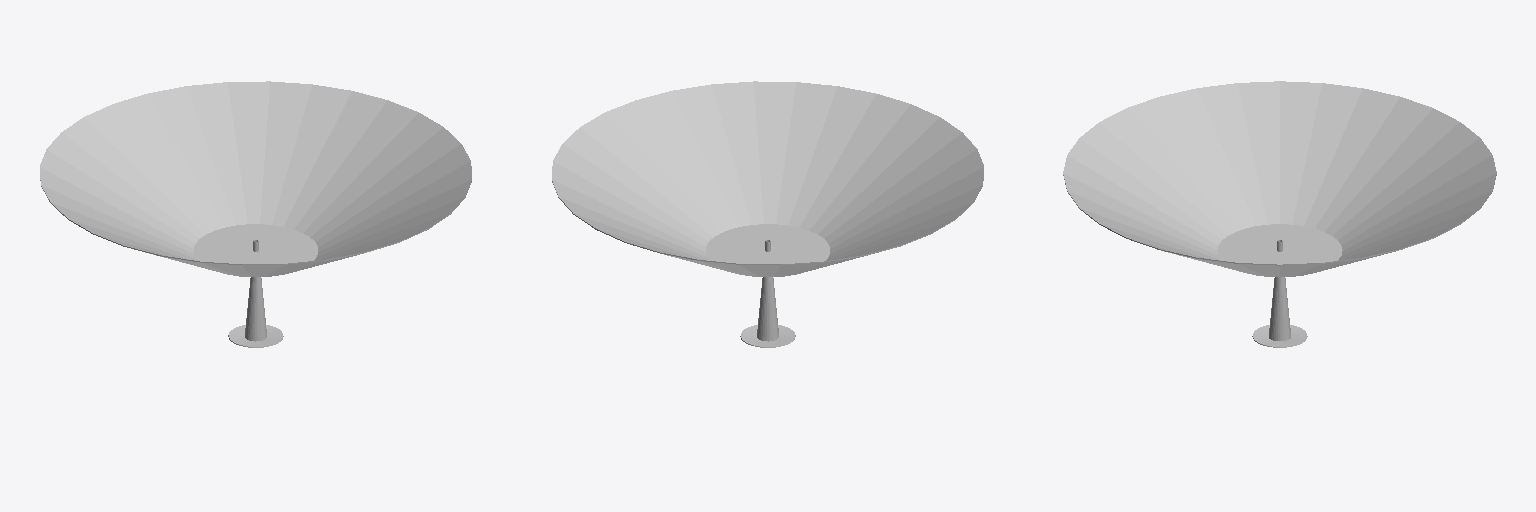
Rendered from final arena.obj.
3 views of the same model, side by side, from view 1: azimuth 30°, elevation 25°; view 2: azimuth 150°, elevation 25°; view 3: azimuth 270°, elevation 25° (orthographic).
Visible parts, largest first — view 1: Cylinder; view 2: Cylinder; view 3: Cylinder.
Boxes of the visible parts, box(x1,y1,x2,y2) form: Cylinder: box(40, 81, 471, 347); Cylinder: box(552, 81, 983, 347); Cylinder: box(1063, 81, 1496, 347).
Bounding box in the file's own units: 580 × 245 × 580.